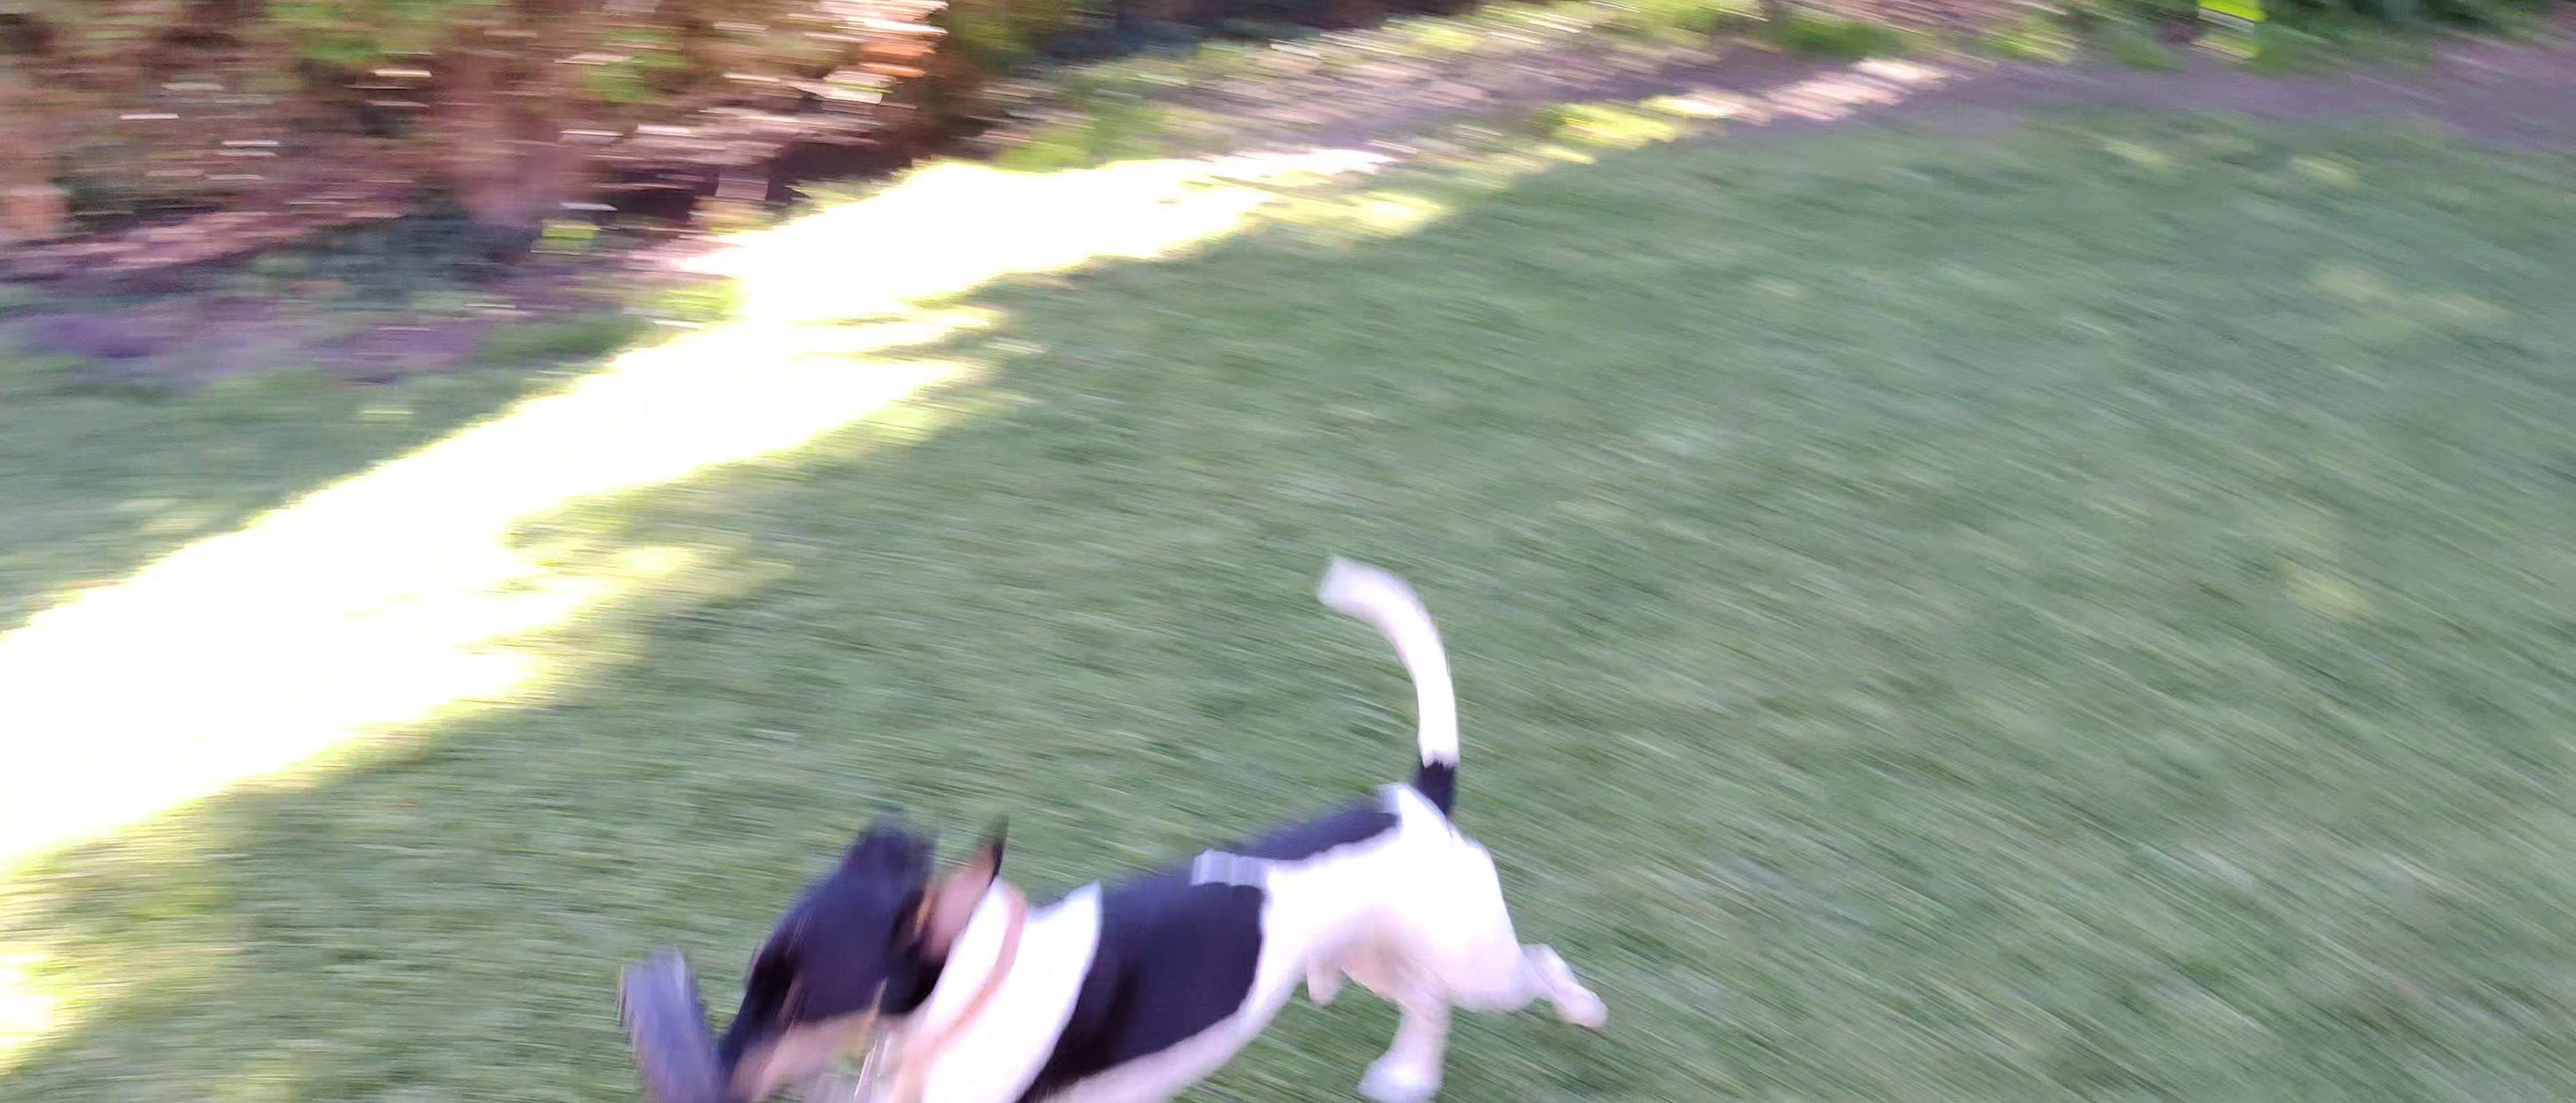Dog: (721, 544, 1620, 1100)
